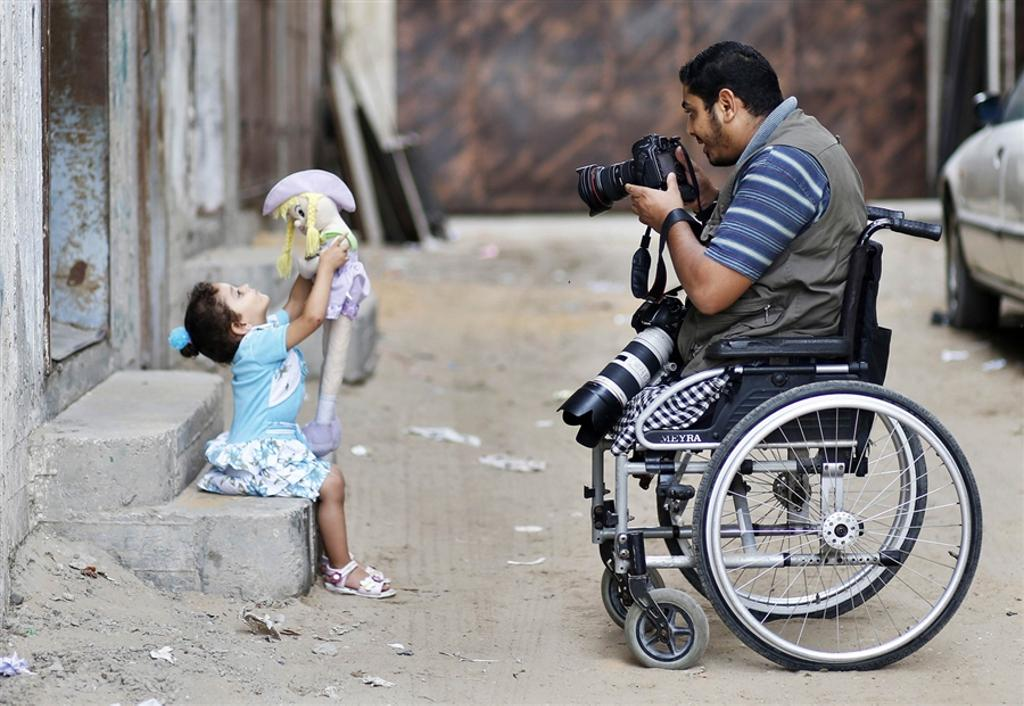face: (676, 68, 730, 166), (186, 278, 274, 334)
